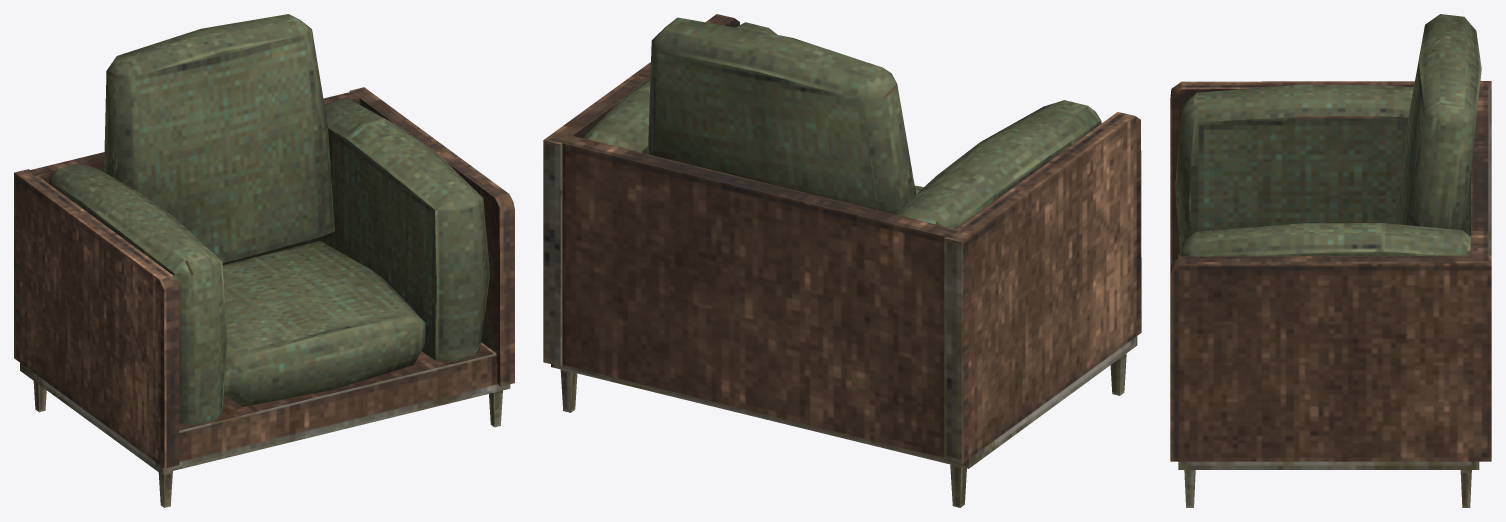
Rendered from OneSeaterSofa.fbx.
The picture shows the model from 3 angles, left to right: view 1: azimuth 30°, elevation 25°; view 2: azimuth 150°, elevation 25°; view 3: azimuth 270°, elevation 25°; orthographic projection. The views are drawn at different scales.
Visible parts, largest first — view 1: OneSeaterSofa; view 2: OneSeaterSofa; view 3: OneSeaterSofa.
Part boxes in pixels (x1,y1,x2,y2): OneSeaterSofa: (14, 14, 514, 507); OneSeaterSofa: (543, 14, 1141, 507); OneSeaterSofa: (1170, 14, 1491, 507).
Size of the model in its own units: 83.25 by 112 by 105.
